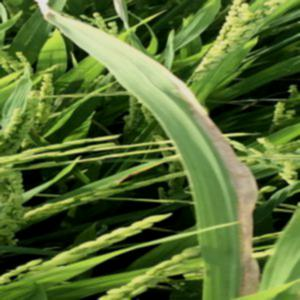2 BacterialBlight: (180, 108, 257, 300)
